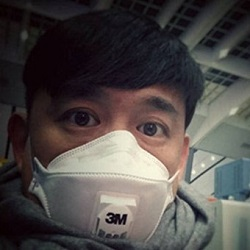mask: (36, 129, 176, 250)
